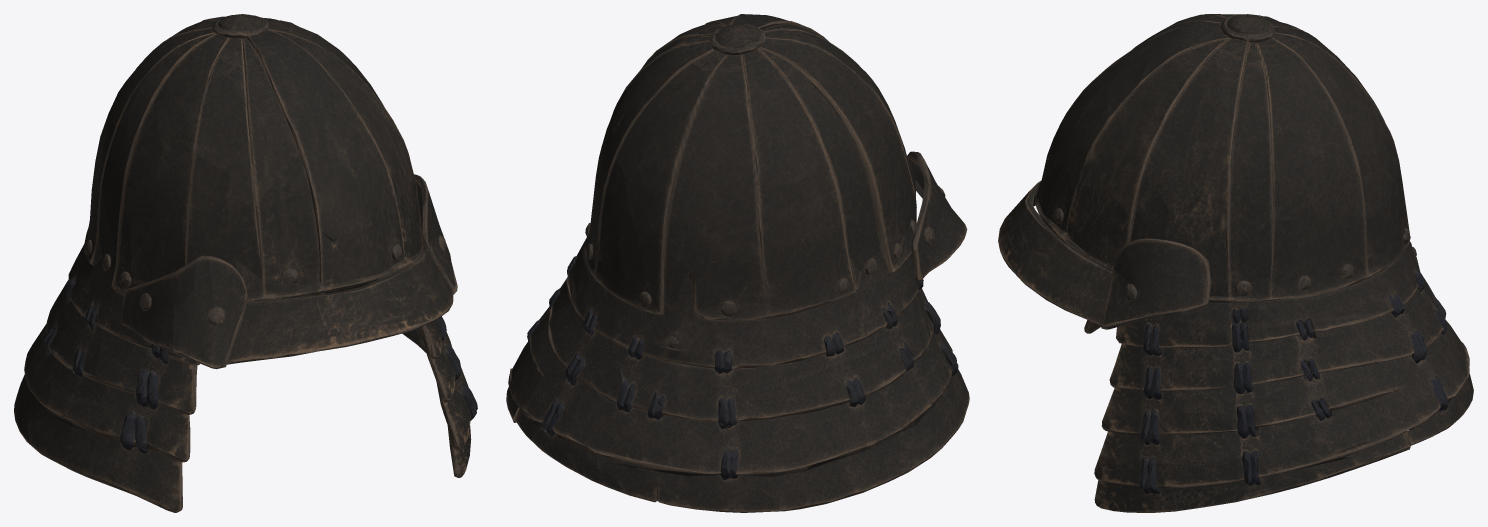
Rendered from acc_kabuto_image.glb.
3 renders of one model, left to right at view 1: azimuth 30°, elevation 25°; view 2: azimuth 150°, elevation 25°; view 3: azimuth 270°, elevation 25°, orthographic. The views are drawn at different scales.
Size of the model in its own units: 1.82 by 1.86 by 1.9.
1 material, 1 textured.
